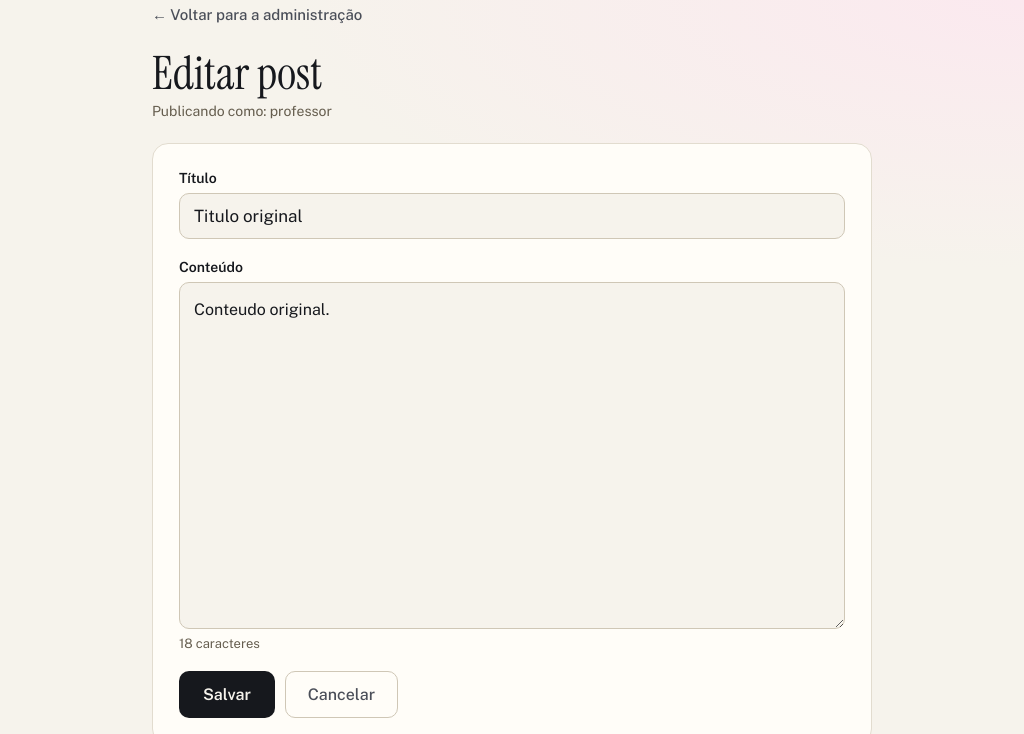
403 defensivo ao salvar mostra mensagem especifica de permissao
Expected: the field labelled "Título" is shown, x1=179 y1=193 x2=845 y2=239
Click the button "Salvar".
click(227, 694)  # box x1=179 y1=671 x2=275 y2=718
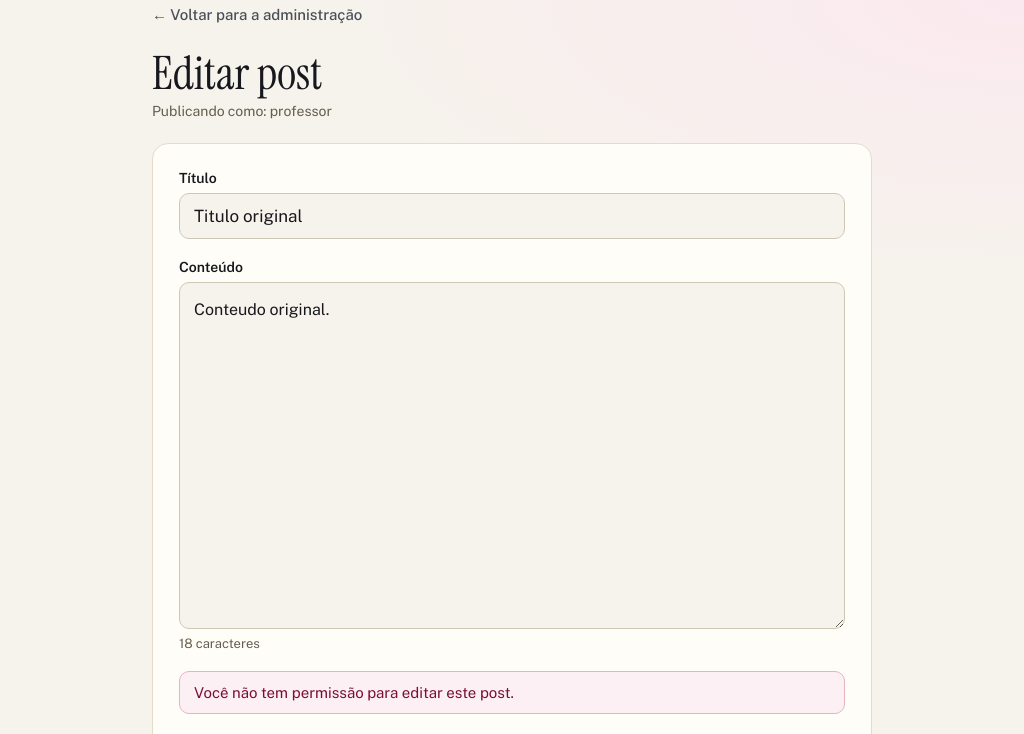
Expected: the text "Você não tem permissão para editar este post." is shown, x1=194 y1=684 x2=514 y2=701
